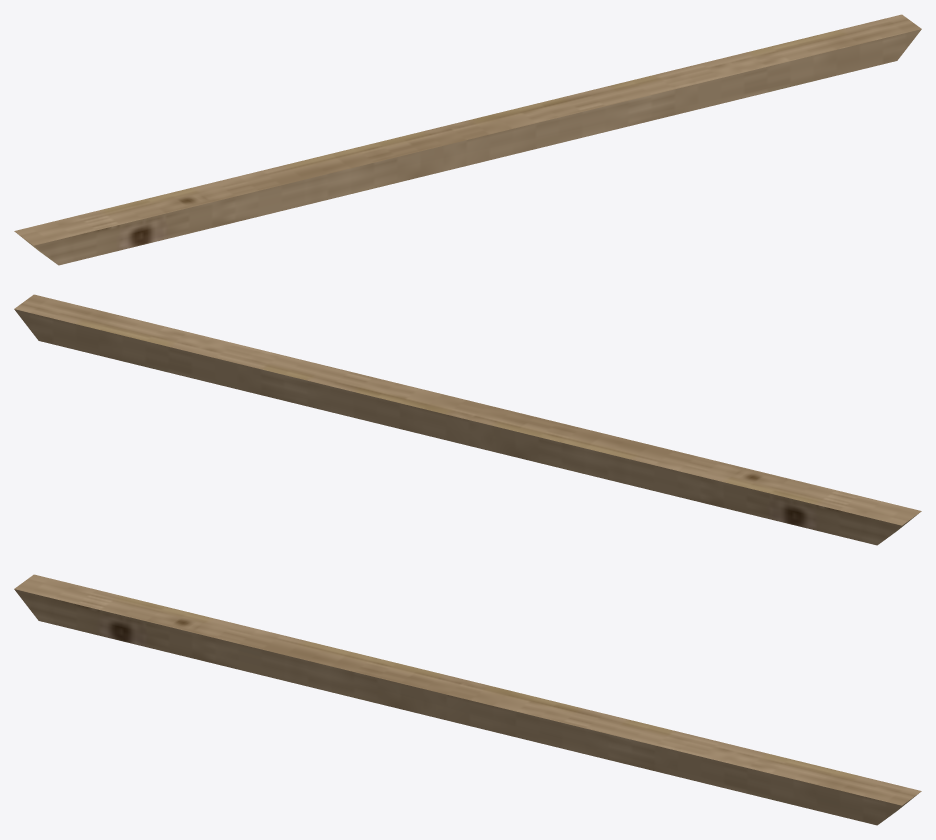
The model's file is Joglo_part_219.fbx.
3 views of the same model, one above another, from view 1: azimuth 30°, elevation 25°; view 2: azimuth 150°, elevation 25°; view 3: azimuth 330°, elevation 25° (orthographic).
Parts seen in each view (by area): view 1: Mesh291_Wood___Pine_Grained_Horizontal_0.001; view 2: Mesh291_Wood___Pine_Grained_Horizontal_0.001; view 3: Mesh291_Wood___Pine_Grained_Horizontal_0.001.
Boxes of the visible parts, bbox=[...] form: Mesh291_Wood___Pine_Grained_Horizontal_0.001: bbox=[14, 14, 921, 265]; Mesh291_Wood___Pine_Grained_Horizontal_0.001: bbox=[14, 294, 921, 545]; Mesh291_Wood___Pine_Grained_Horizontal_0.001: bbox=[14, 574, 921, 825].
Size of the model in its own units: 35.43 by 0.9842 by 1.38.
